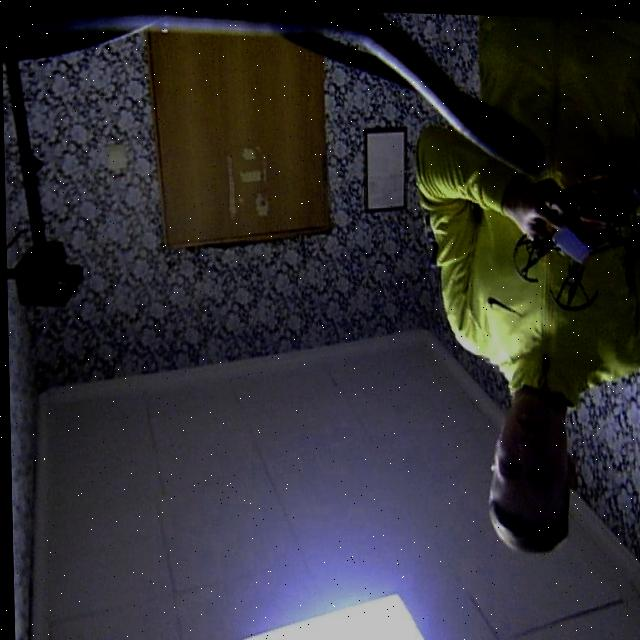drone: (506, 169, 634, 320)
